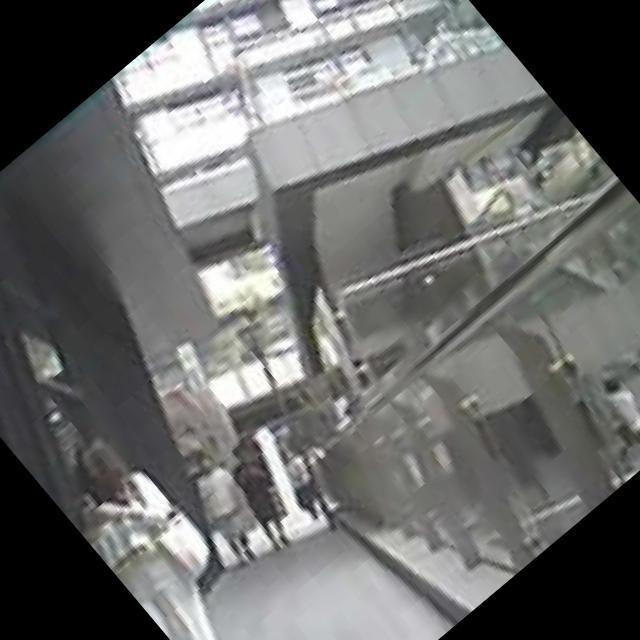person: (32, 412, 303, 640), (170, 449, 285, 572), (216, 453, 310, 554)
